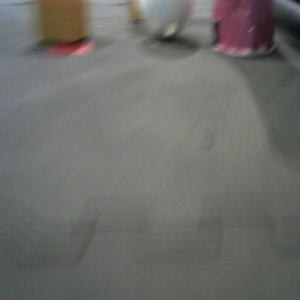right: (213, 1, 277, 57)
